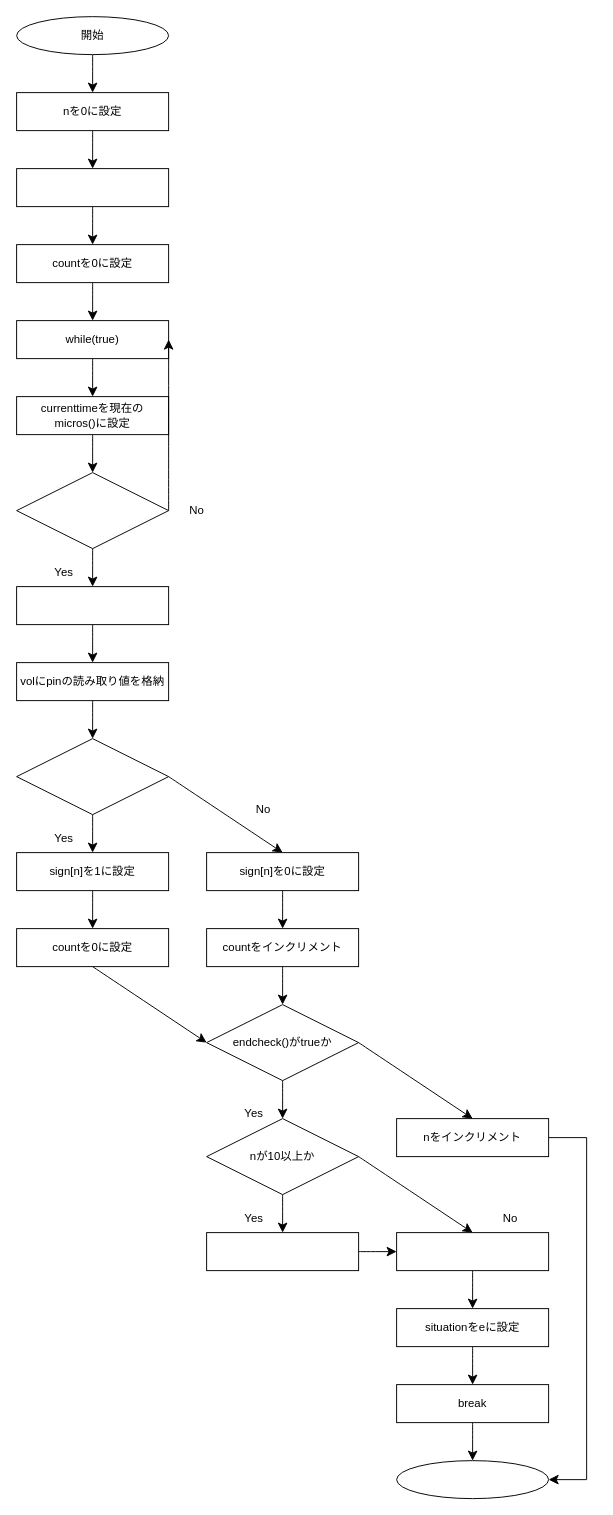
This 613x1515 diagram has some shape labels left out. The shapes that lost their labels are listed below. From the top down, each one's centre as x and y in pixels, then its label:
At (x=92, y=187): "pretimeを現在の micros()に設定".
At (x=92, y=510): "currenttime - pretime >= bitdurationか".
At (x=92, y=605): "pretimeをcurrenttimeに設定".
At (x=92, y=776): "vol >= THRESHOLDか".
At (x=282, y=1251): "nから10を減算".
At (x=472, y=1251): "groupbits()を呼び出し".
At (x=472, y=1479): "終了".
